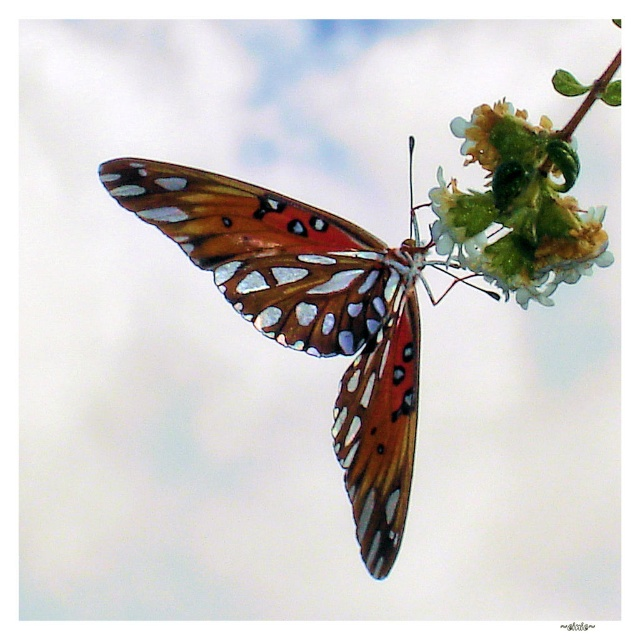Butterfly: (111, 133, 461, 506)
